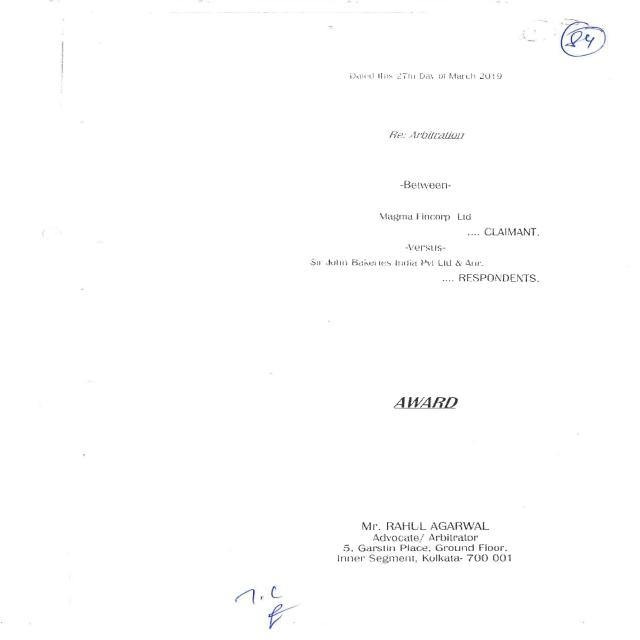page-number: (520, 0, 640, 86)
